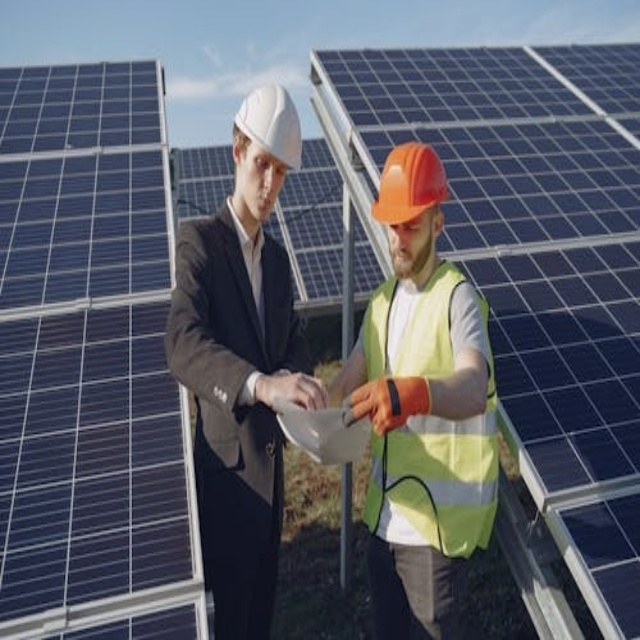Guantes: (343, 367, 434, 444)
Sin_gafas: (251, 150, 287, 183), (387, 219, 424, 234)
Sin_guantes: (268, 365, 330, 419)
Sin_mascara: (251, 188, 271, 219), (390, 244, 412, 271)
